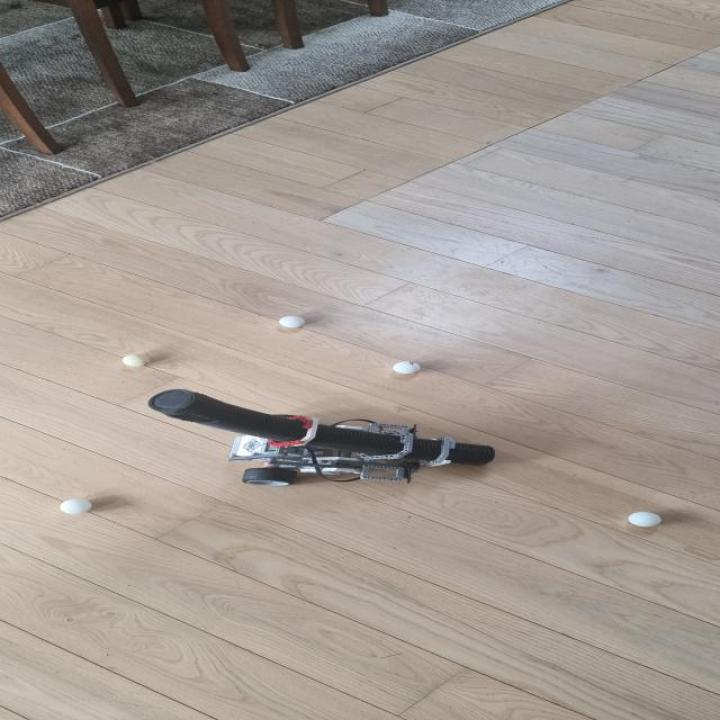robot: (147, 389, 496, 486)
white: (628, 512, 661, 526), (60, 500, 92, 514), (393, 361, 421, 375), (122, 354, 150, 367), (278, 316, 306, 328)
